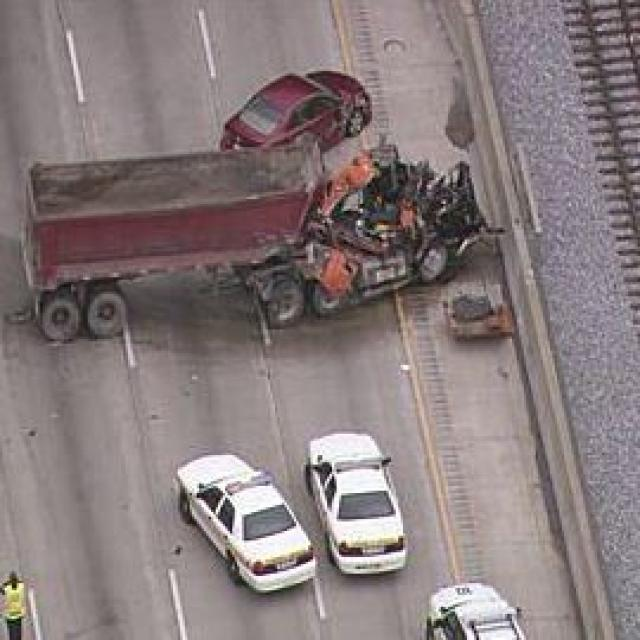traffic_incident: (24, 123, 472, 351)
